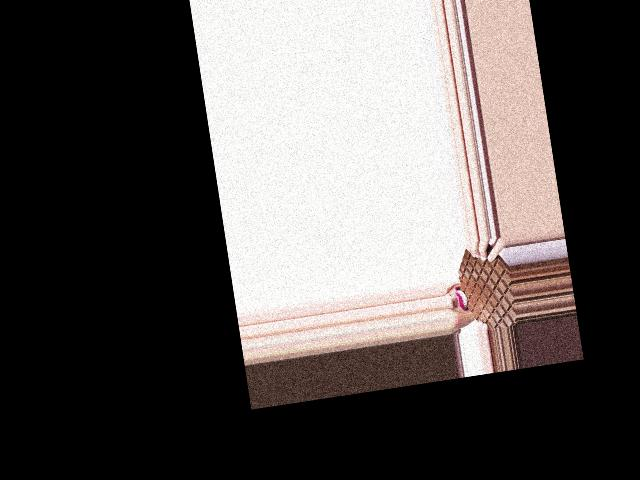chocolate: (451, 236, 517, 332)
